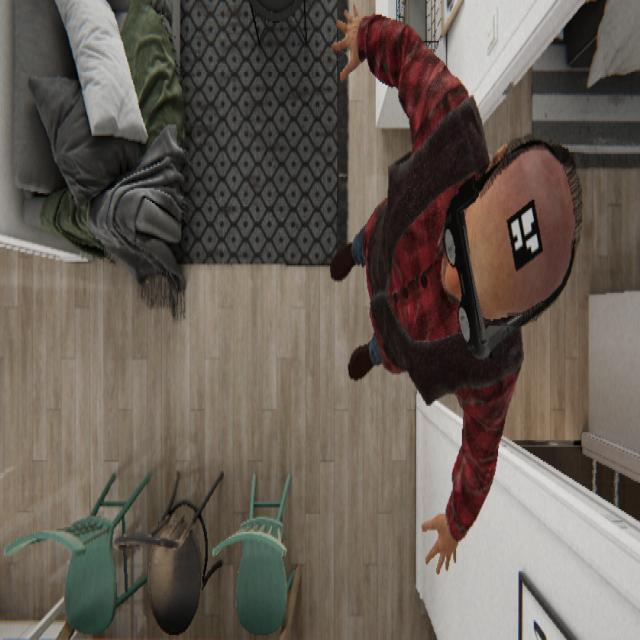AruCO: (506, 194, 544, 272)
Human: (328, 3, 583, 575)
